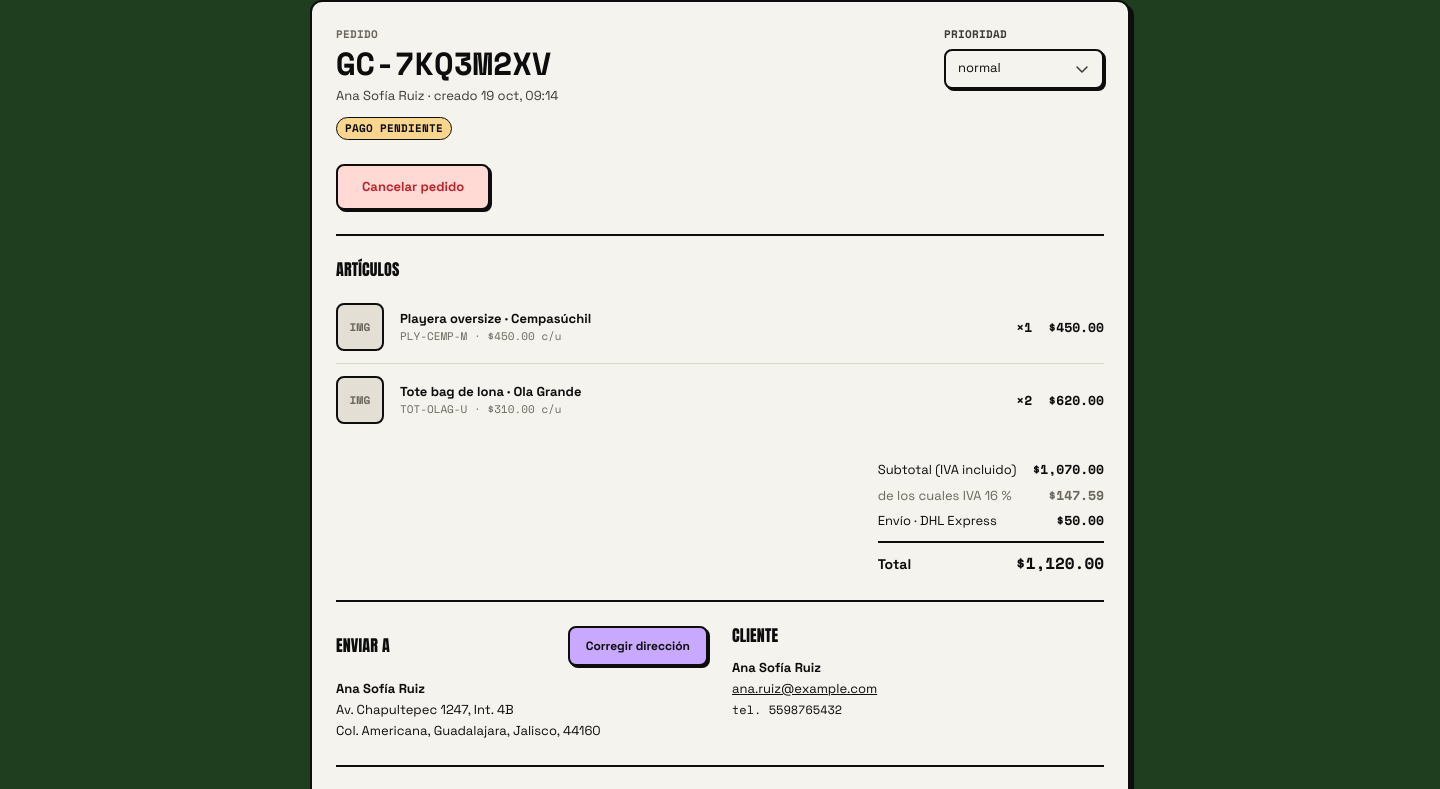
OrderDetail: cancelar y reembolsar › cancelar exige motivo de 5 caracteres y lo manda a la API
The width and height of the screenshot is (1440, 789).
Click the button "Cancelar pedido".
click(413, 187)  # box [336,164,490,210]
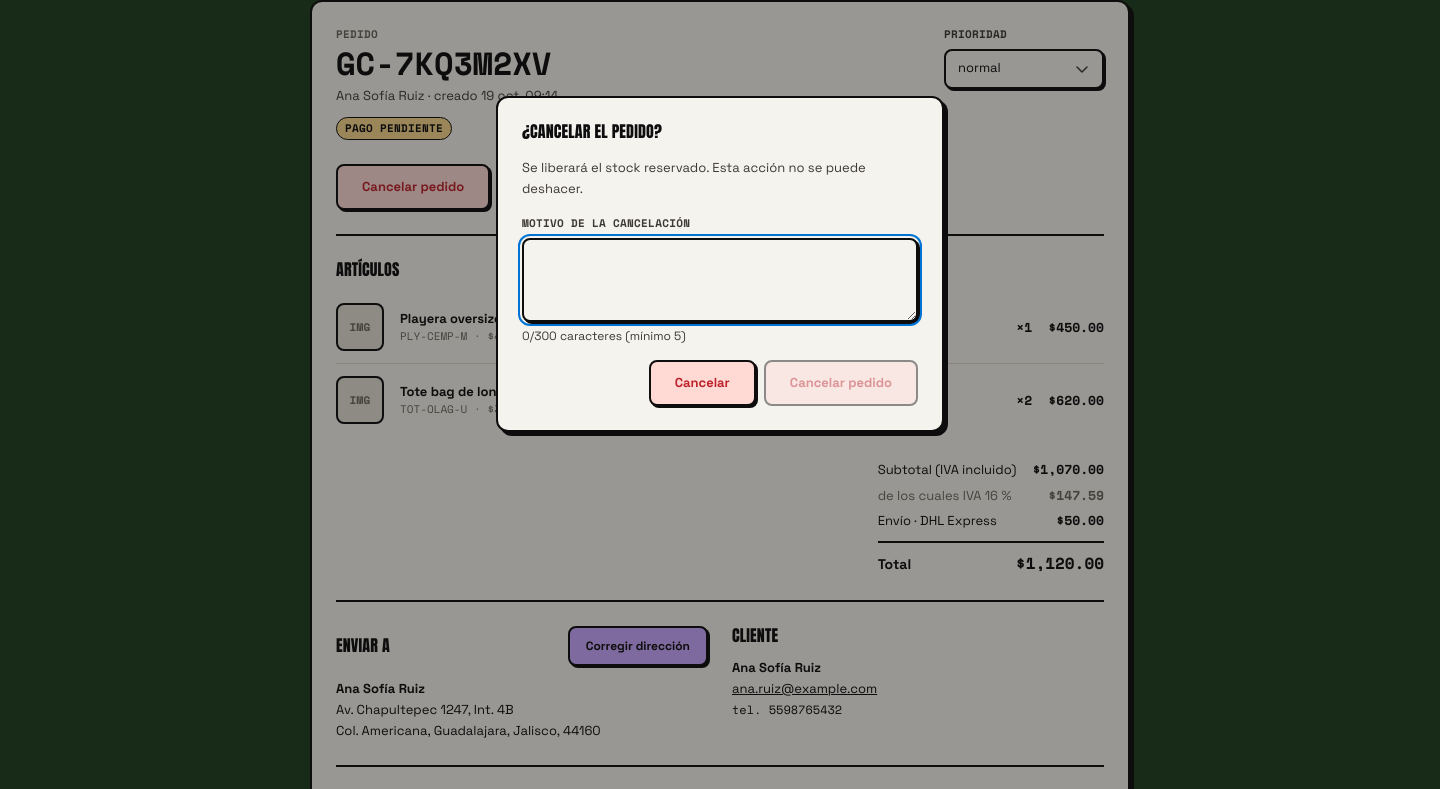
Now the button "Cancelar pedido" is disabled, box [764,360,918,406]
Type "El cliente lo pidió" into the text box labelled "Motivo de la cancelación".
click(720, 280); type("El cliente lo pidió")  # box [522,238,918,322]
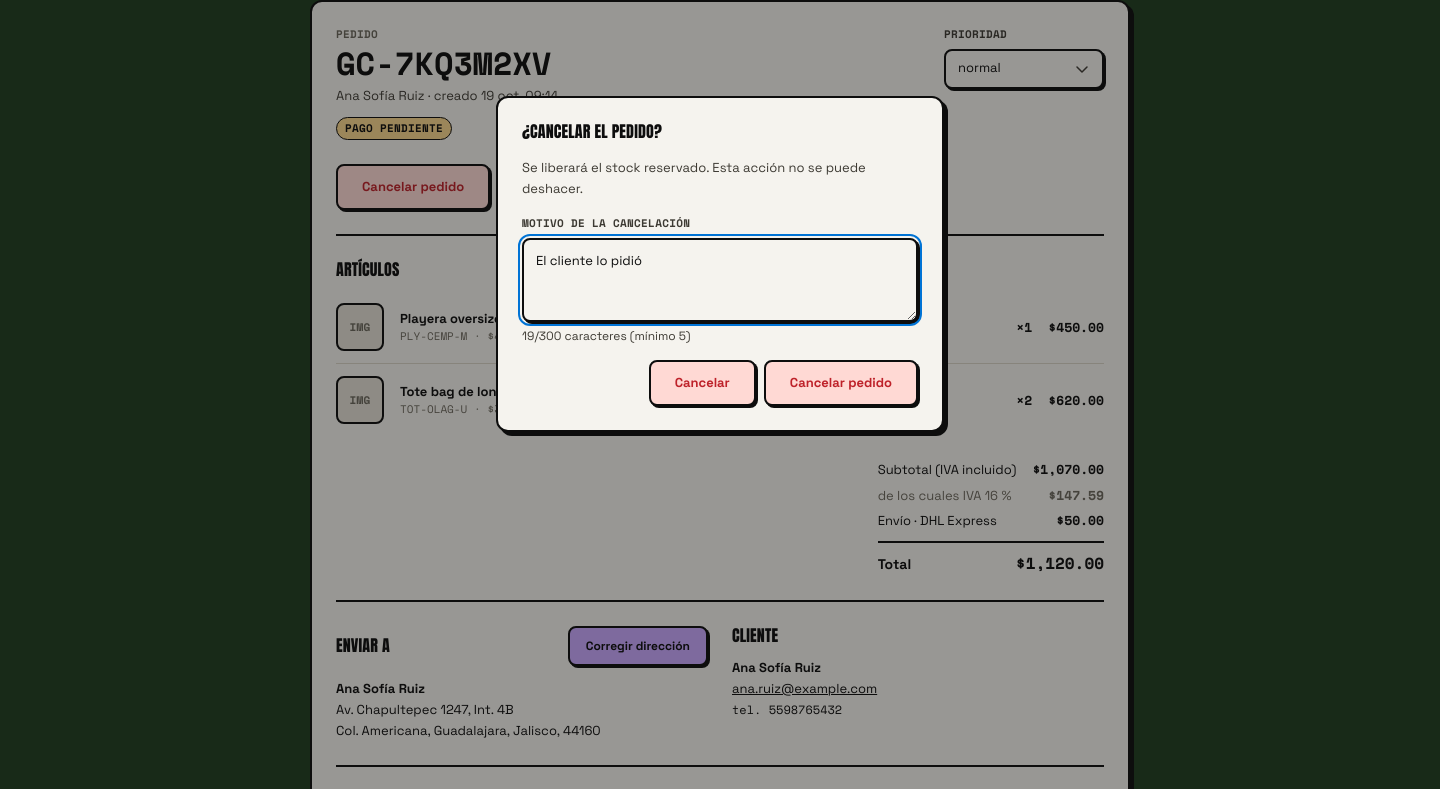
Click the button "Cancelar pedido".
click(841, 383)  # box [764,360,918,406]
(page scrolled)
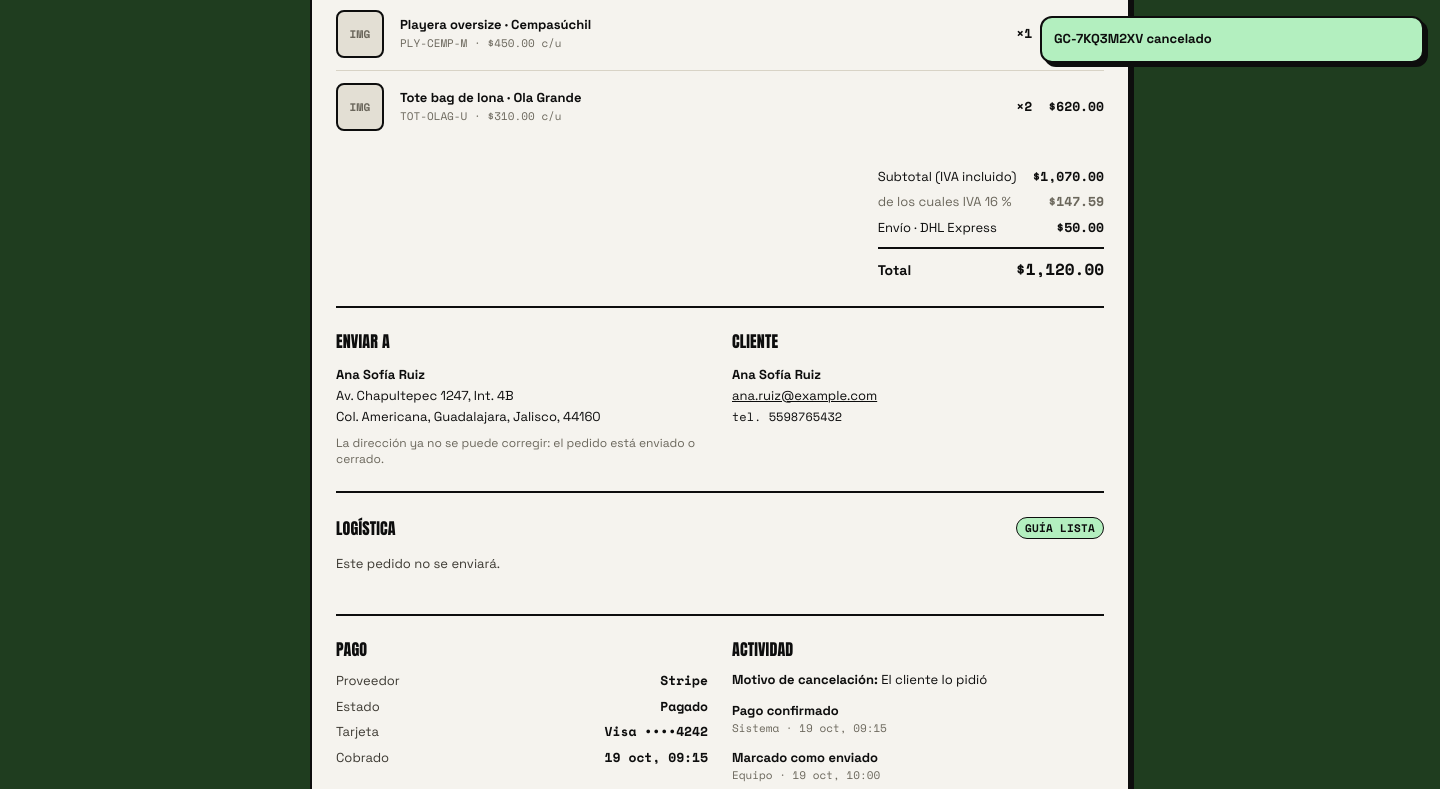
Now the text "Motivo de cancelación:" is shown, box [732,671,878,688]
